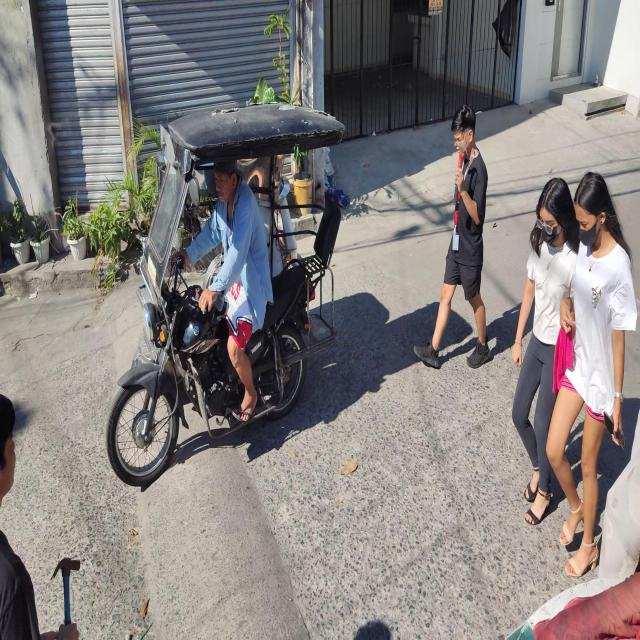hammer: (51, 557, 81, 626), (453, 142, 468, 205)
